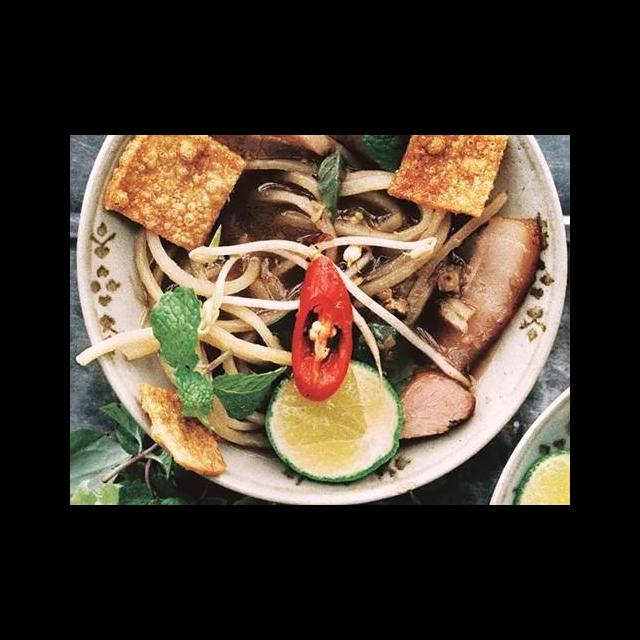banh da: (99, 136, 250, 255), (384, 136, 513, 221)
mi: (73, 222, 308, 453), (237, 155, 513, 345)
mi quang: (84, 167, 562, 505)
thit heo: (411, 207, 546, 381), (381, 359, 478, 445), (205, 136, 334, 167)
